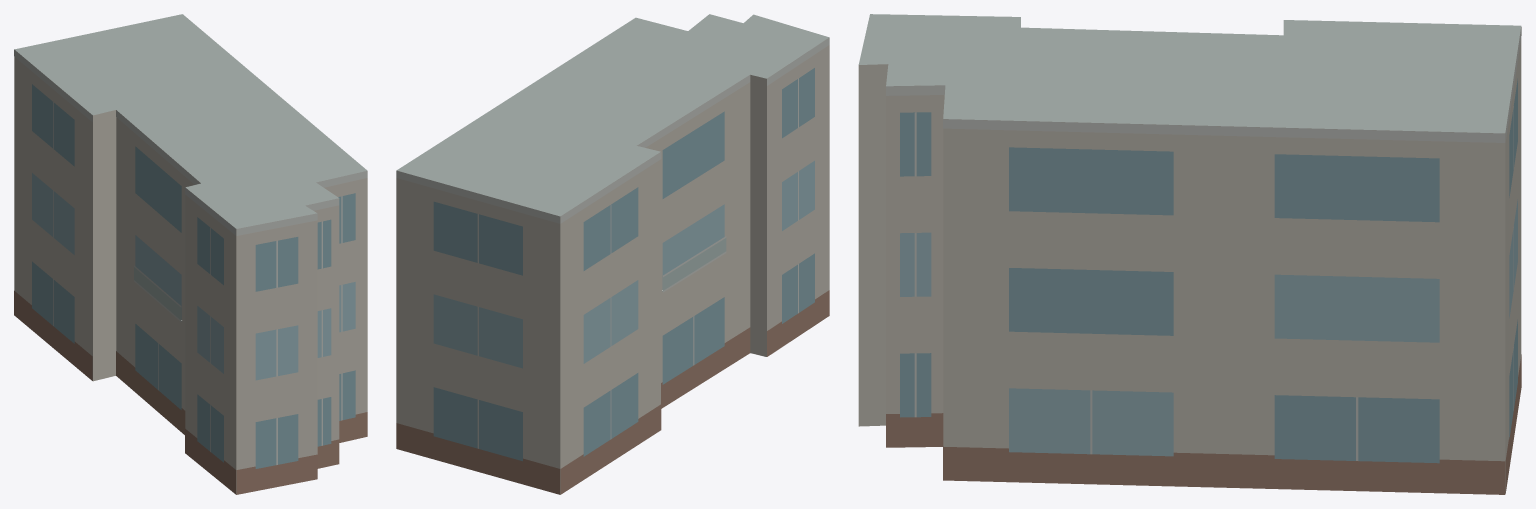
Rendered from survey-upis-32458206.glb.
The picture shows the model from 3 angles, left to right: view 1: azimuth 30°, elevation 25°; view 2: azimuth 150°, elevation 25°; view 3: azimuth 270°, elevation 25°; orthographic projection. The views are drawn at different scales.
Parts seen in each view (by area): view 1: survey-upis-32458206.tmp; view 2: survey-upis-32458206.tmp; view 3: survey-upis-32458206.tmp.
Boxes of the visible parts, x1,y1,x2,y2 form: survey-upis-32458206.tmp: (14,14,367,494); survey-upis-32458206.tmp: (396,14,829,494); survey-upis-32458206.tmp: (858,14,1521,494).
Bounding box in the file's own units: 6.49 × 9.15 × 15.22.
